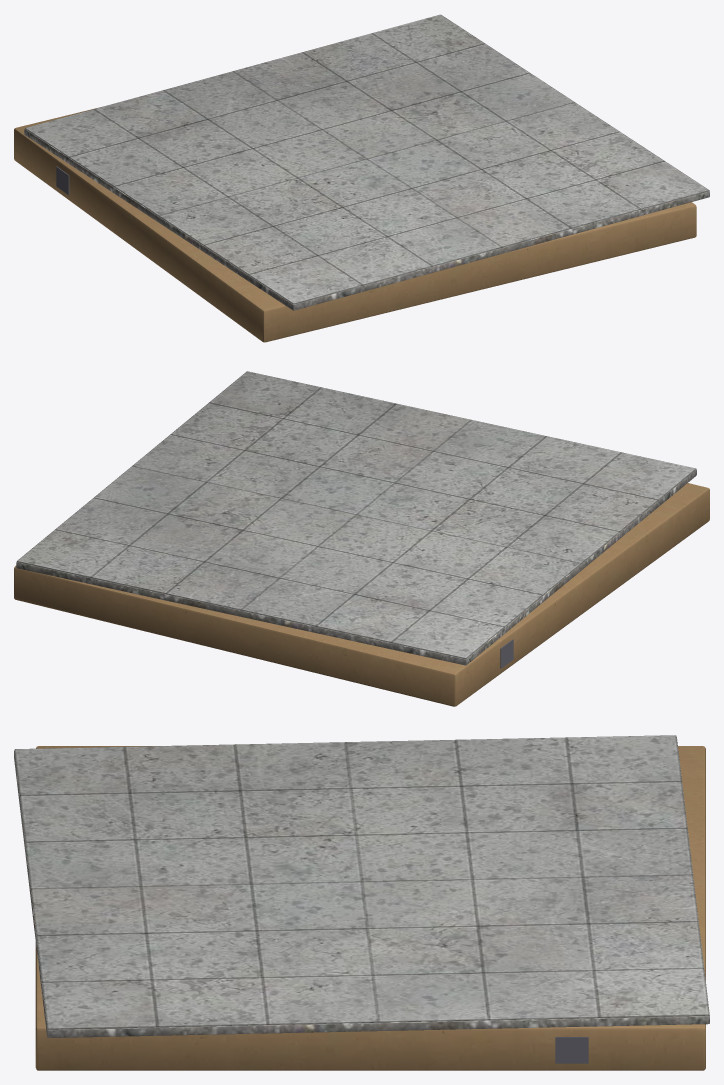
The model's file is PIS-CER-003.glb.
3 renders of one model, top to bottom at view 1: azimuth 30°, elevation 25°; view 2: azimuth 150°, elevation 25°; view 3: azimuth 270°, elevation 25°, orthographic. The views are drawn at different scales.
Visible parts, largest first — view 1: PIS-CER-003_face, PIS-CER-003_caixa, PIS-CER-003_corpo; view 2: PIS-CER-003_face, PIS-CER-003_caixa, PIS-CER-003_corpo; view 3: PIS-CER-003_face, PIS-CER-003_caixa, PIS-CER-003_corpo, PIS-CER-003_faixa.
Boxes of the visible parts, x1,y1,x2,y2 form: PIS-CER-003_face: [25, 14, 709, 304]; PIS-CER-003_caixa: [14, 107, 696, 342]; PIS-CER-003_corpo: [24, 129, 709, 310]; PIS-CER-003_face: [17, 371, 696, 658]; PIS-CER-003_caixa: [14, 483, 709, 706]; PIS-CER-003_corpo: [16, 469, 696, 665]; PIS-CER-003_face: [14, 735, 709, 1029]; PIS-CER-003_caixa: [35, 746, 705, 1070]; PIS-CER-003_corpo: [14, 737, 709, 1037]; PIS-CER-003_faixa: [555, 1037, 588, 1063].
Size of the model in its own units: 0.6306 by 0.0541 by 0.6292.
Materials: 6 (4 with a texture image).
